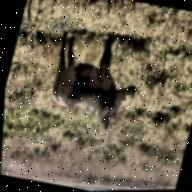boar: (29, 19, 158, 147)
